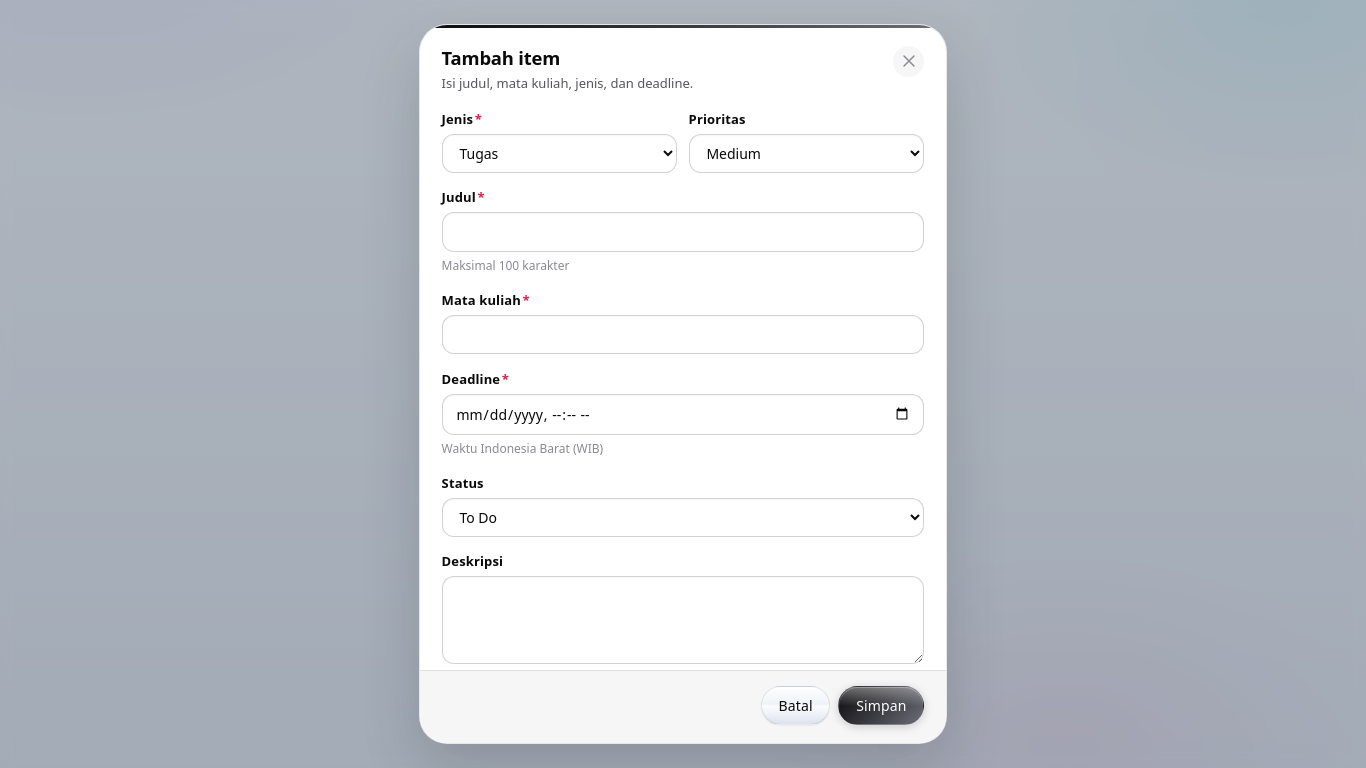
Test: ItemFormModal required fields › blocks submit and toasts when required fields are empty
Click the button "Simpan". click: (882, 706)
box: [838,686,924,725]
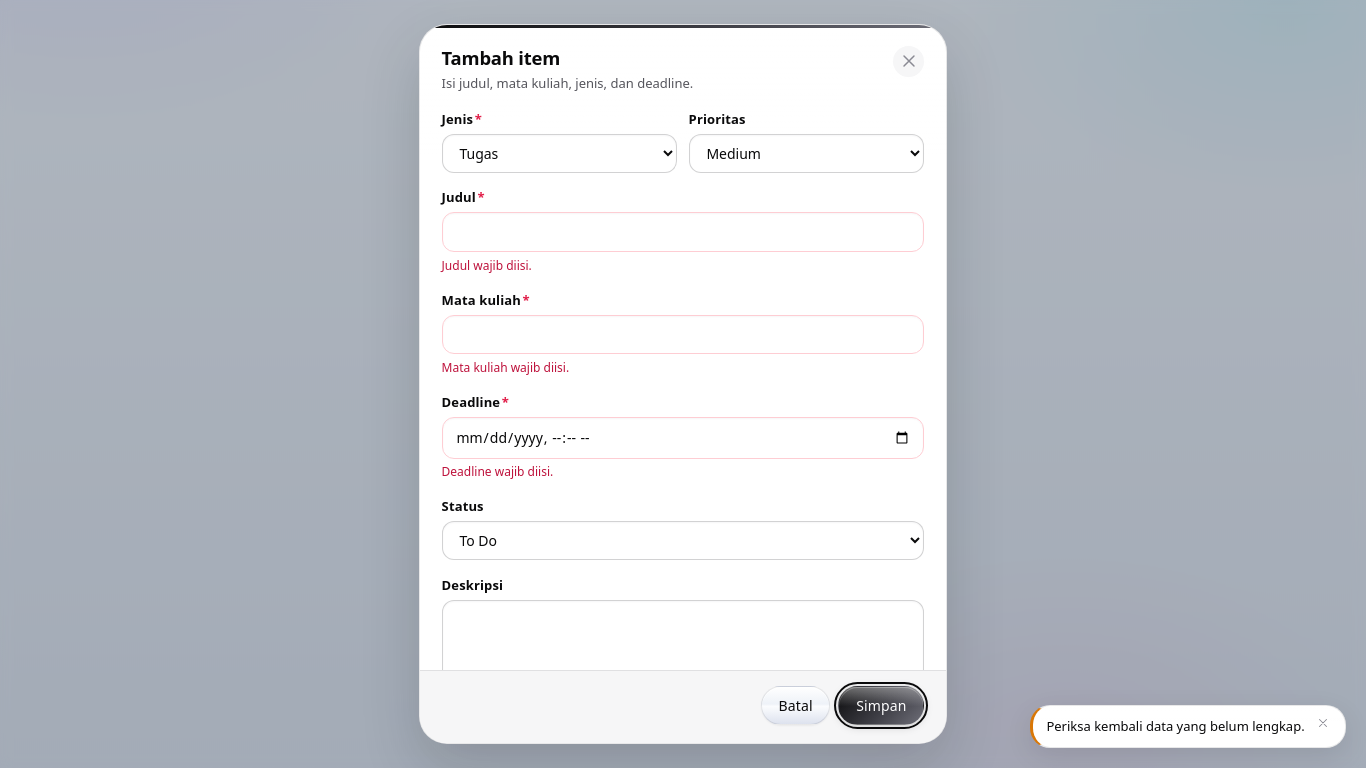
Expected: the text "Judul wajib diisi." is shown, [442,257,532,274]
Expected: the text "Mata kuliah wajib diisi." is shown, [442,359,569,376]
Expected: the text "Deadline wajib diisi." is shown, [442,463,553,480]
